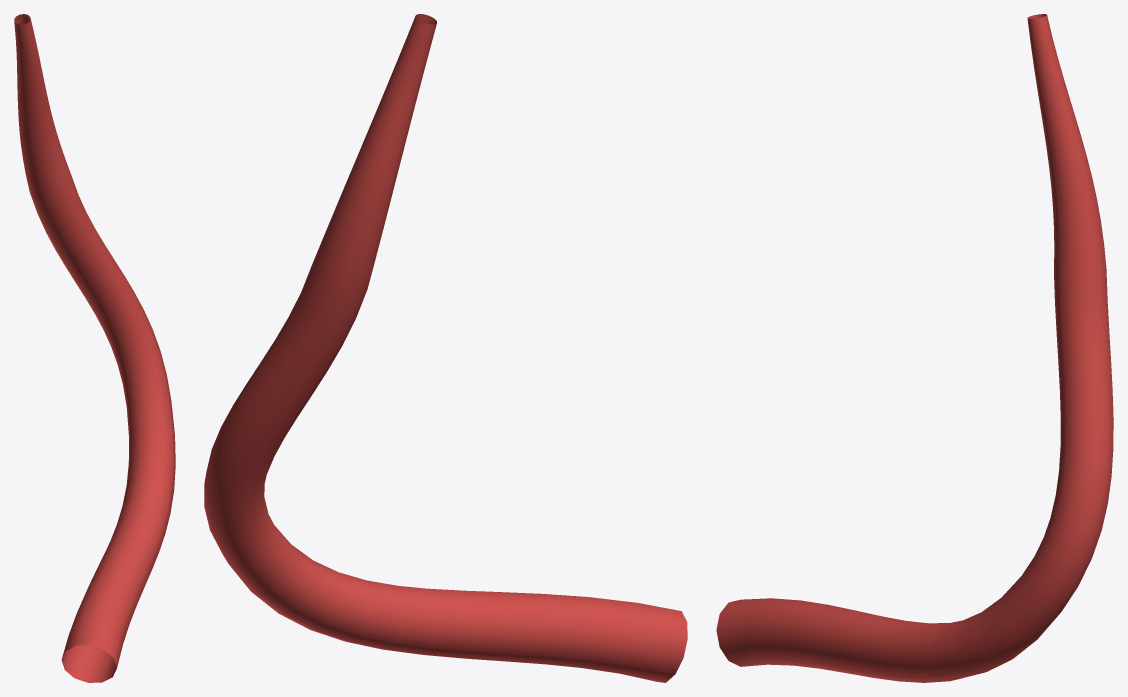
The picture shows the model from 3 angles, left to right: view 1: azimuth 30°, elevation 25°; view 2: azimuth 150°, elevation 25°; view 3: azimuth 270°, elevation 25°; orthographic projection. The views are drawn at different scales.
Visible parts, largest first — view 1: 左侧胫后动脉跟支; view 2: 左侧胫后动脉跟支; view 3: 左侧胫后动脉跟支.
Boxes of the visible parts, <box> form: 左侧胫后动脉跟支: <box>14,14,175,682</box>; 左侧胫后动脉跟支: <box>204,14,687,682</box>; 左侧胫后动脉跟支: <box>716,14,1113,682</box>.
Bounding box in the file's own units: 0.0136 × 0.0326 × 0.0173.
